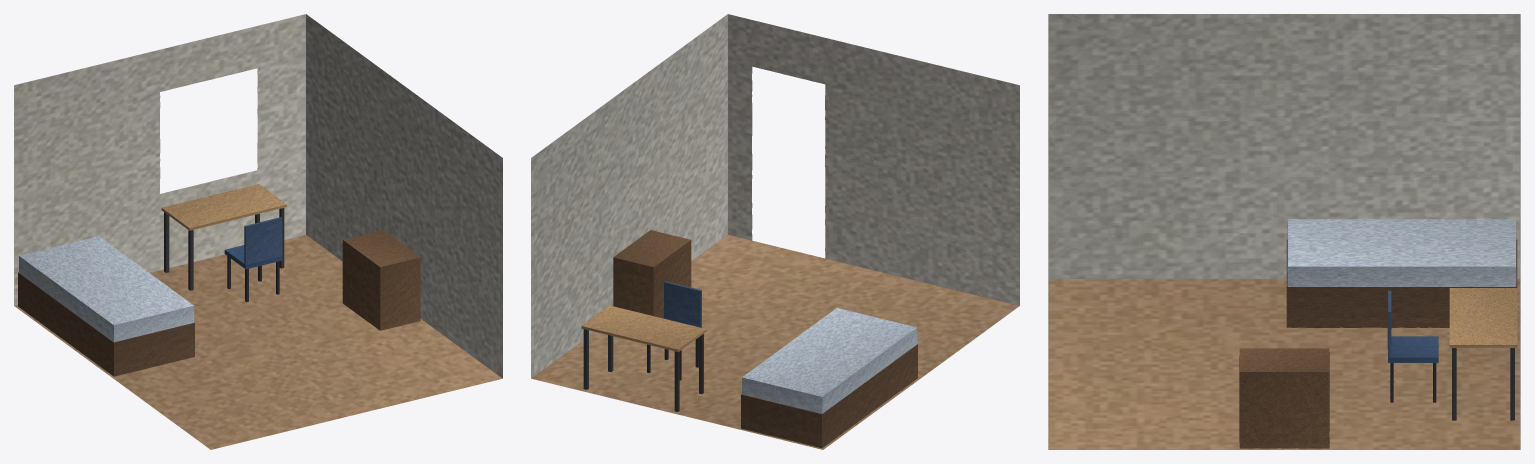
Rendered from room.glb.
3 views of the same model, side by side, from view 1: azimuth 30°, elevation 25°; view 2: azimuth 150°, elevation 25°; view 3: azimuth 270°, elevation 25° (orthographic). The views are drawn at different scales.
Visible parts, largest first — view 1: North wall, Floor, East wall, Mattress, Dresser, Bed frame, Desk top, Chair back, Desk legs, Chair seat; view 2: South wall, East wall, Floor, Mattress, Bed frame, Dresser, Desk top, Chair back, Desk legs; view 3: West wall, Floor, Mattress, Dresser, Bed frame, Desk top, Chair seat, Desk legs.
Boxes of the visible parts, <box> form: North wall: <box>14,14,305,305</box>; Floor: <box>14,235,502,449</box>; East wall: <box>306,14,502,378</box>; Mattress: <box>19,236,194,342</box>; Dresser: <box>342,230,420,330</box>; Bed frame: <box>18,272,194,376</box>; Desk top: <box>161,184,286,230</box>; Chair back: <box>244,217,282,264</box>; Desk legs: <box>164,208,284,290</box>; Chair seat: <box>224,245,282,269</box>; South wall: <box>728,14,1019,305</box>; East wall: <box>531,14,727,378</box>; Floor: <box>531,235,1019,449</box>; Mattress: <box>742,308,917,413</box>; Bed frame: <box>741,344,917,448</box>; Dresser: <box>613,230,691,318</box>; Desk top: <box>581,305,706,351</box>; Chair back: <box>664,281,701,327</box>; Desk legs: <box>583,329,703,411</box>; West wall: <box>1048,14,1520,278</box>; Floor: <box>1048,279,1520,449</box>; Mattress: <box>1287,219,1516,286</box>; Dresser: <box>1239,348,1329,448</box>; Bed frame: <box>1286,239,1517,327</box>; Desk top: <box>1449,288,1517,347</box>; Chair seat: <box>1388,336,1438,362</box>; Desk legs: <box>1452,348,1514,420</box>.
Bounding box in the file's own units: 3.6 × 2.6 × 4.2.
14 materials, 14 textured.
